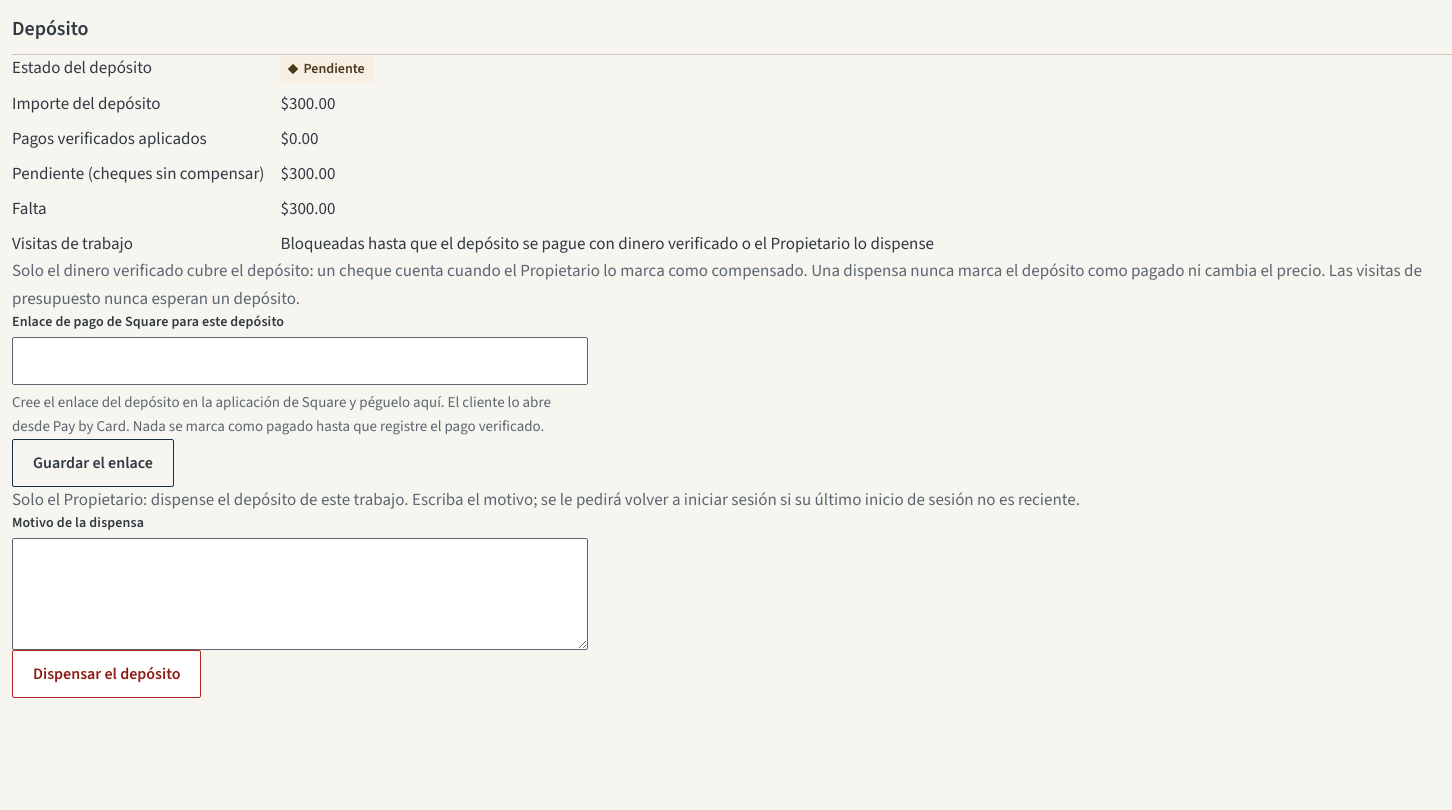
[OWN-DEC-76][T64][RULE-LANGUAGES] the Owner waiver asks for a reason and a fresh sign-in › asks for the password when the server needs a fresh sign-in, then waives (Spanish)
The width and height of the screenshot is (1452, 810).
Click the button "Dispensar el depósito" at (107, 674), box [12,650,201,698]
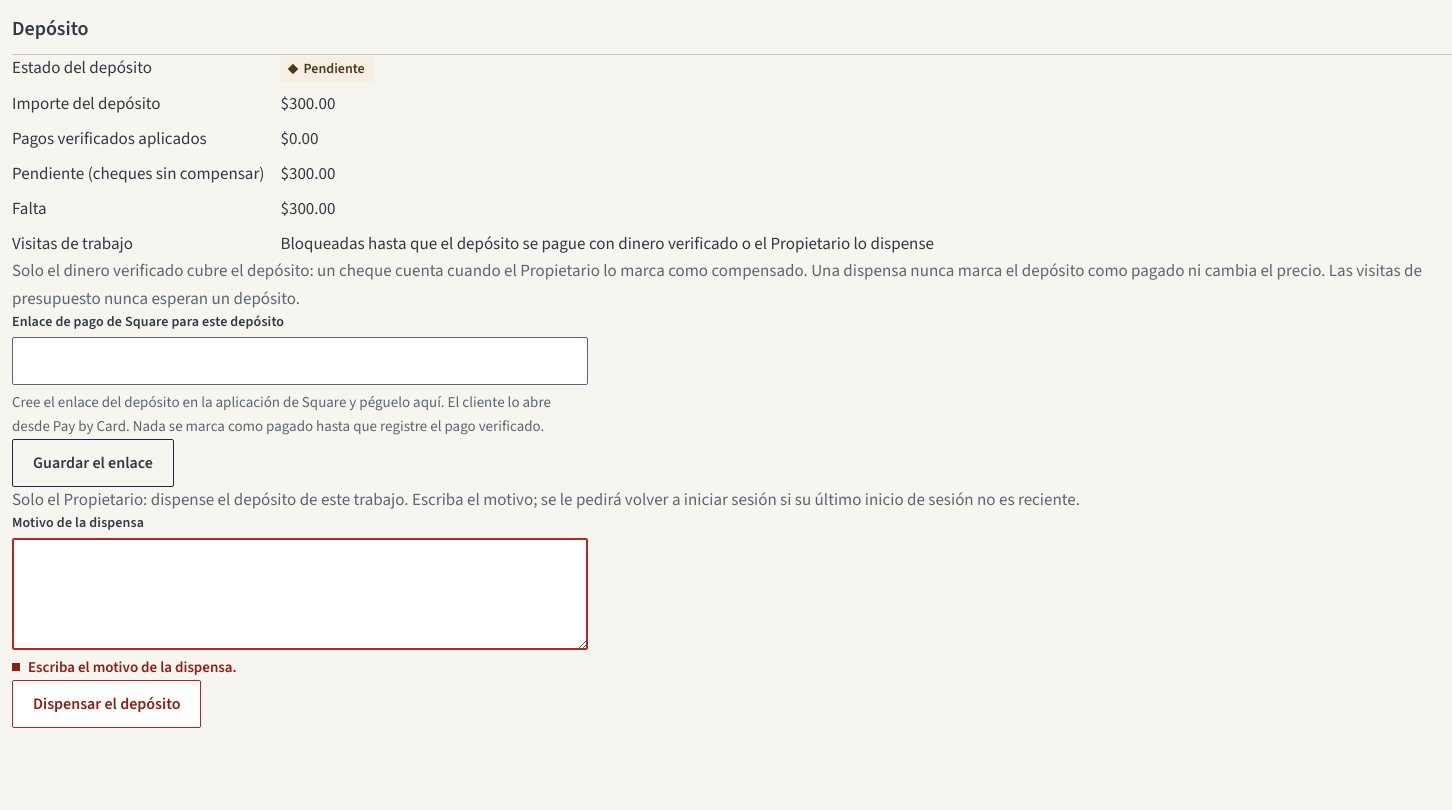
Result: the text "Escriba el motivo de la dispensa." is shown at [28,657,237,678]
Type "Sintético: cliente de confianza" into the text box labelled "Motivo de la dispensa" at (300, 594), box [12,538,588,650]
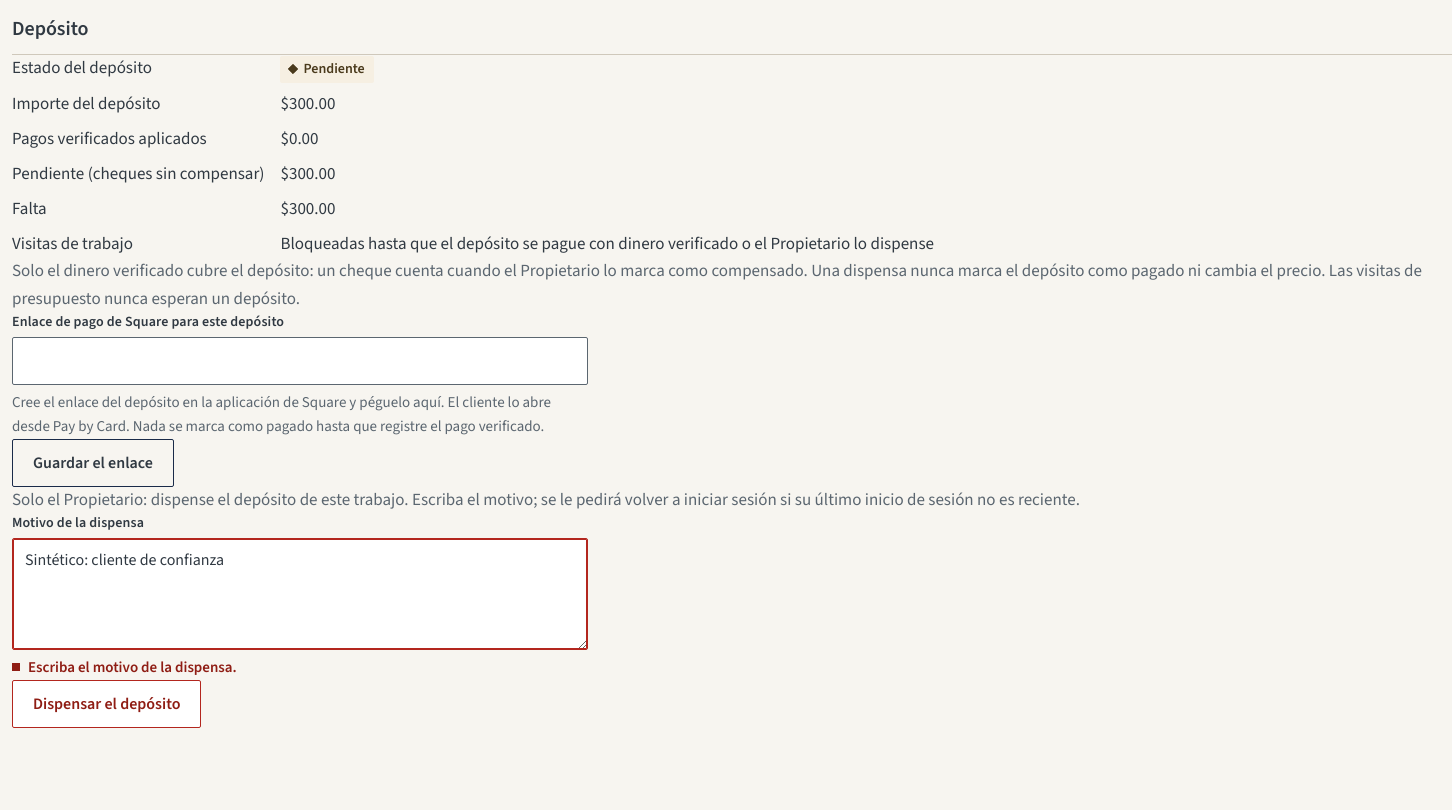
Click the button "Dispensar el depósito" at (107, 704), box [12,680,201,728]
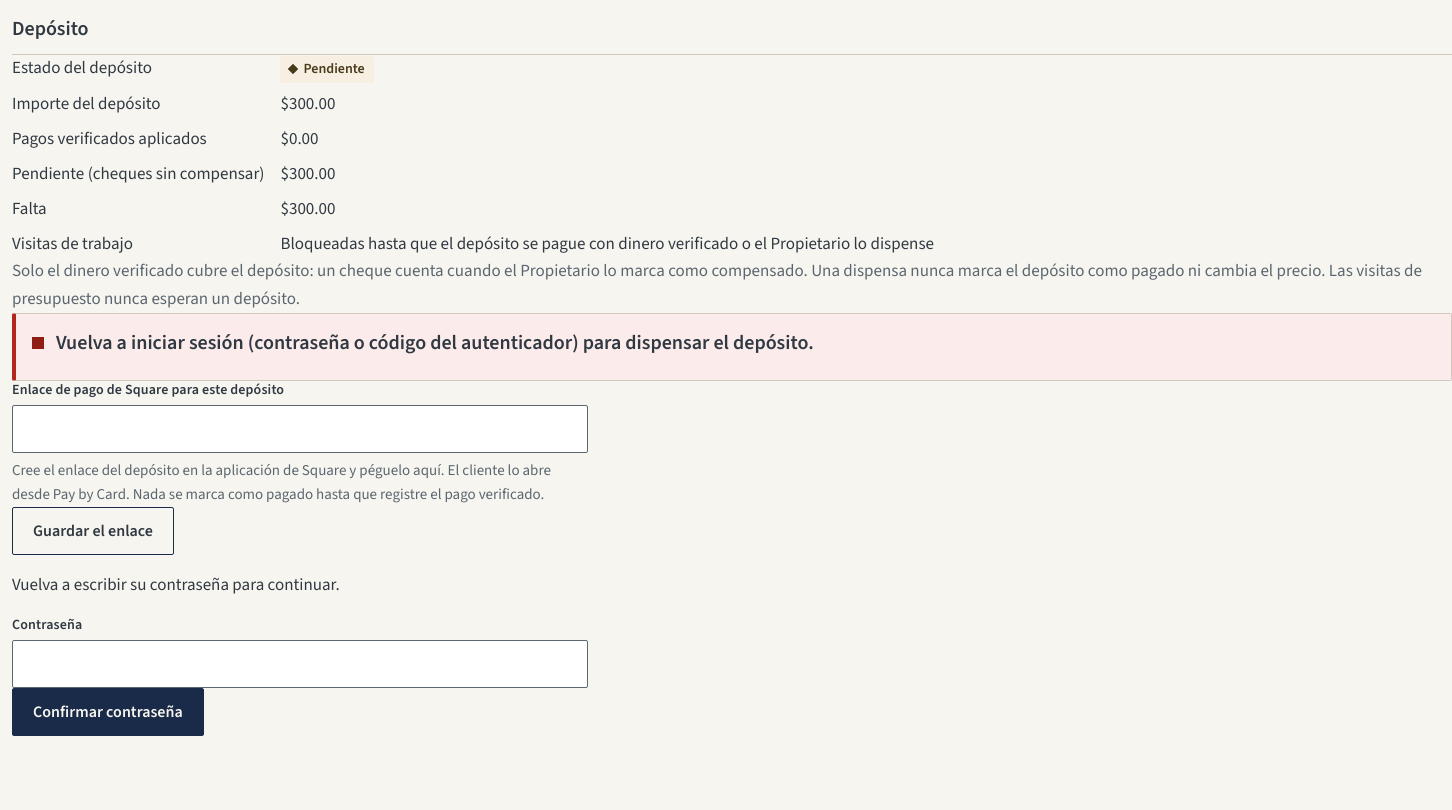
Type "synthetic password" into the password field labelled "Contraseña" at (300, 664), box [12,640,588,688]
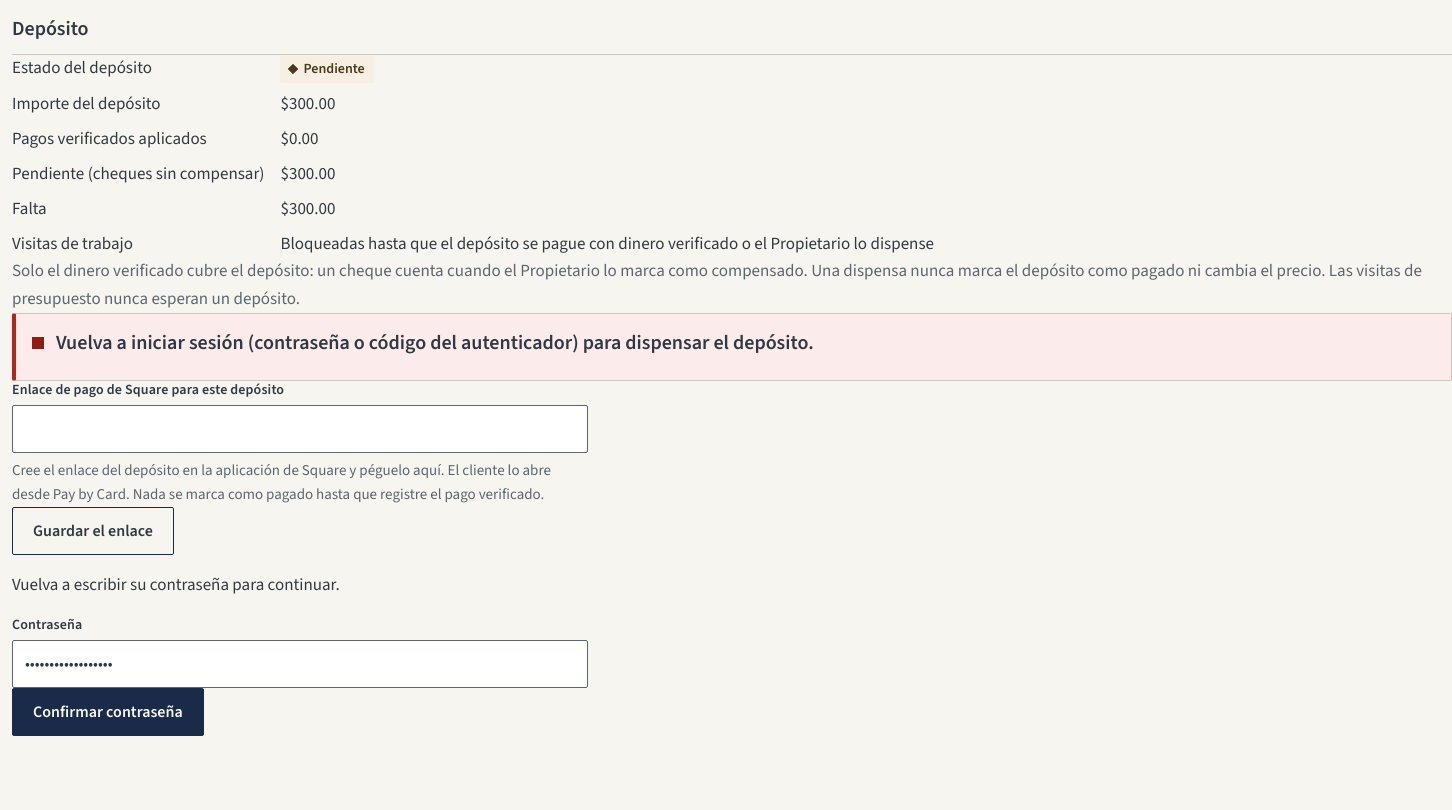
Submit the form named "Vuelva a iniciar sesión", box [12,573,588,736]
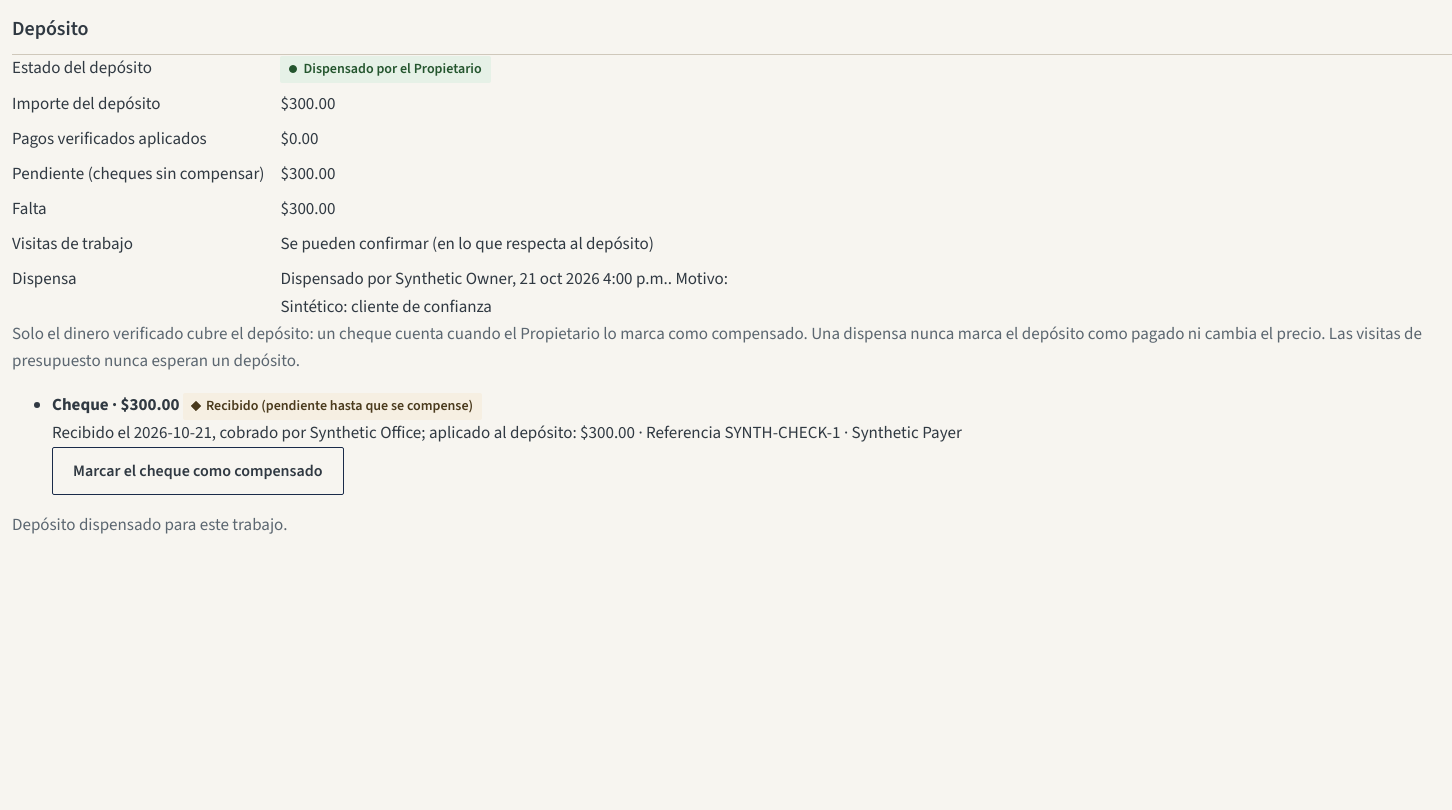
Result: the text "Depósito dispensado para este trabajo." is shown at [12,513,287,537]
Result: the element with test id "deposit-waiver" shows "Sintético: cliente de confianza" at [280,295,492,319]
